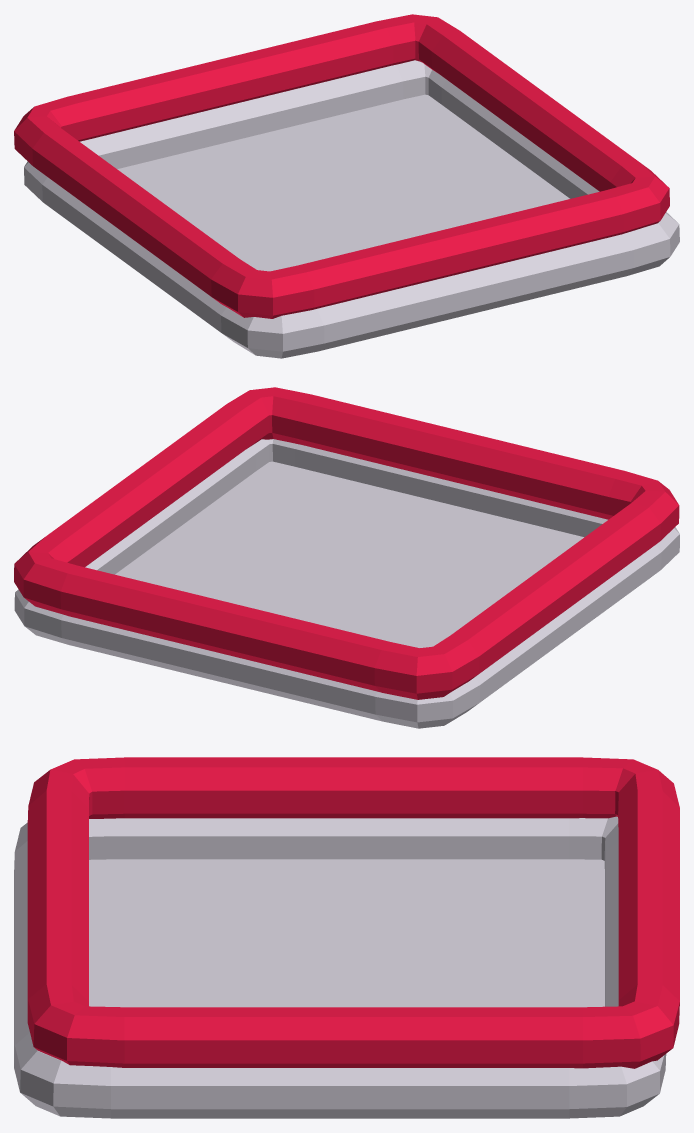
File: pool.fbx
The picture shows the model from 3 angles, top to bottom: view 1: azimuth 30°, elevation 25°; view 2: azimuth 150°, elevation 25°; view 3: azimuth 270°, elevation 25°; orthographic projection. The views are drawn at different scales.
Parts seen in each view (by area): view 1: Cylinder, Cylinder.001; view 2: Cylinder, Cylinder.001; view 3: Cylinder, Cylinder.001.
Boxes of the visible parts, left/top/right/bottom form: Cylinder: left=24, top=60, right=679, bottom=358; Cylinder.001: left=14, top=14, right=669, bottom=318; Cylinder: left=14, top=439, right=679, bottom=728; Cylinder.001: left=14, top=387, right=679, bottom=699; Cylinder: left=14, top=816, right=666, bottom=1118; Cylinder.001: left=27, top=757, right=679, bottom=1068.
Size of the model in its own units: 2008 by 331 by 2028.
